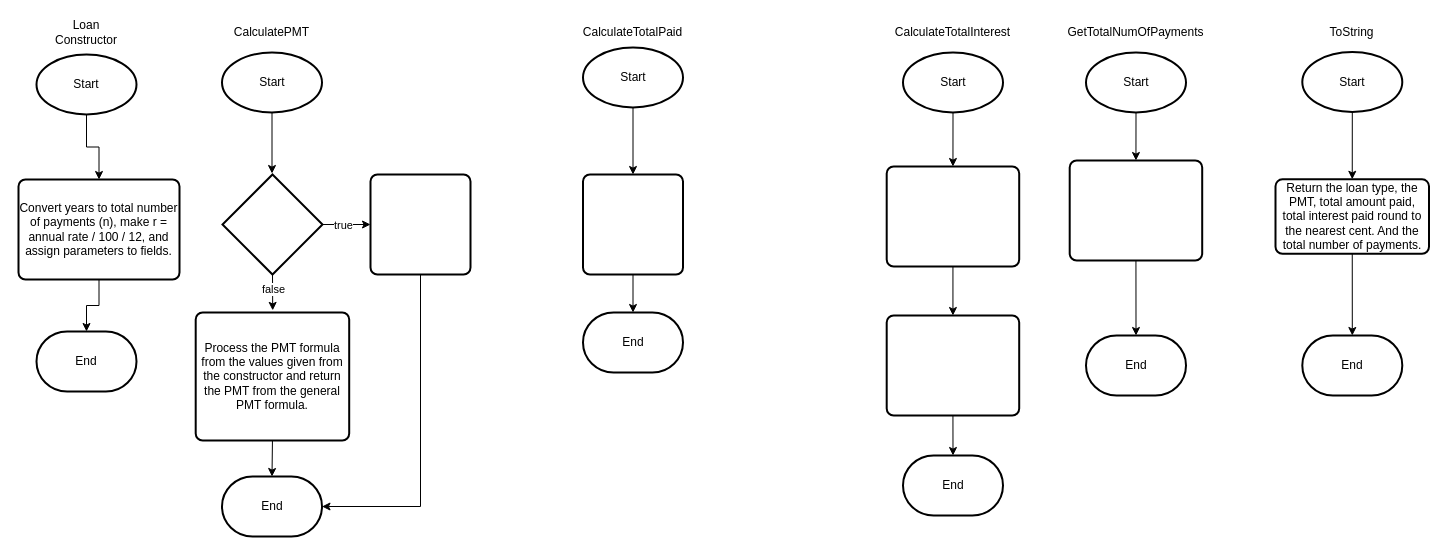
Image size: 1447x554. Some labels were removed from this diagram. Each missing label, with the centre of its shape:
create totalPaid variable and call CalculateTotalPaid(): [952,216]
r == 0.0: [272,224]
return n: [1135,210]
return PMT * n: [633,224]
return PV / n: [420,224]
return totalPaid - PV: [952,365]
